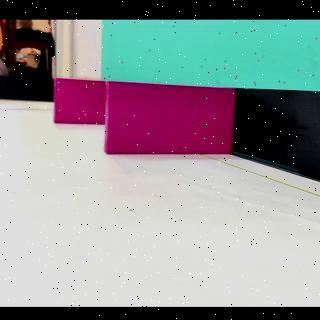xparking: (108, 88, 232, 153), (55, 82, 105, 124)
